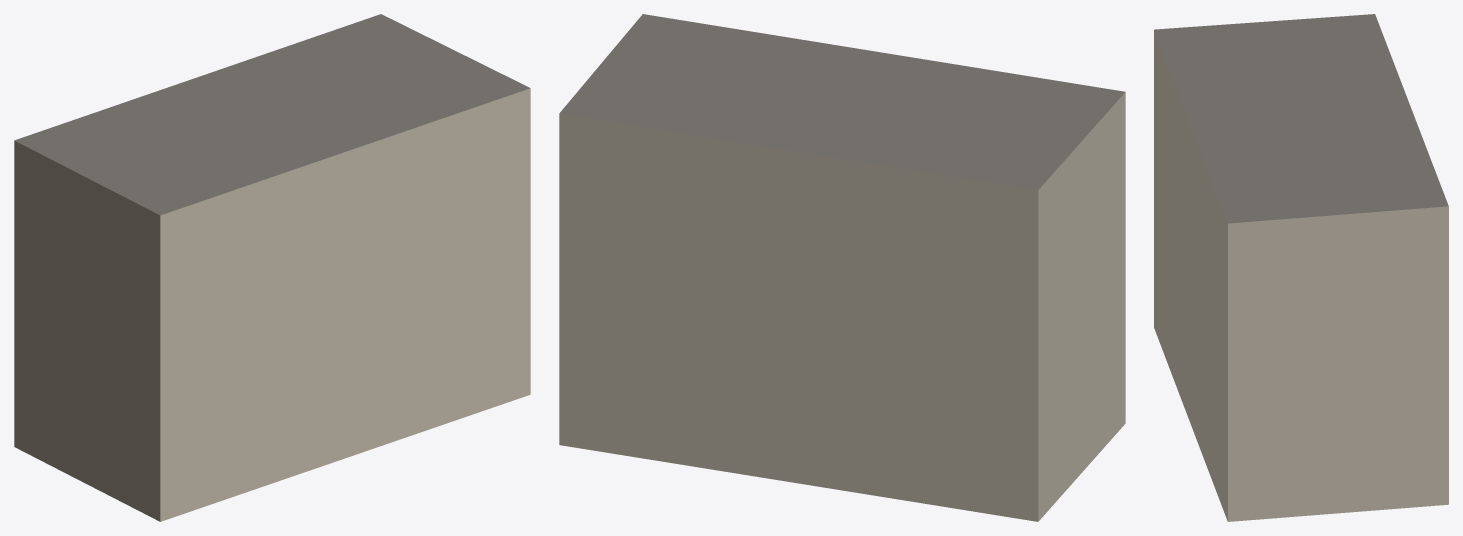
3 renders of one model, left to right at view 1: azimuth 30°, elevation 25°; view 2: azimuth 150°, elevation 25°; view 3: azimuth 270°, elevation 25°, orthographic. The views are drawn at different scales.
Visible parts, largest first — view 1: HP-w505664437; view 2: HP-w505664437; view 3: HP-w505664437.
Boxes of the visible parts, box(x1,y1,x2,y2) form: HP-w505664437: box(14, 14, 530, 521); HP-w505664437: box(559, 14, 1125, 521); HP-w505664437: box(1154, 14, 1448, 521).
Bounding box in the file's own units: 22.59 × 15 × 13.43.
